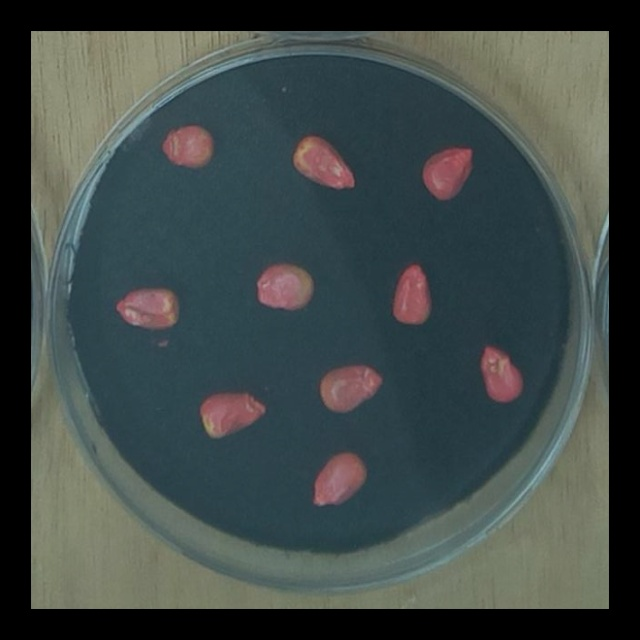Zea mays: (285, 127, 361, 195), (305, 445, 374, 515), (313, 357, 389, 419), (193, 386, 272, 445), (110, 281, 186, 337), (250, 257, 320, 317), (416, 139, 478, 206), (474, 338, 530, 410), (385, 256, 438, 329), (155, 116, 219, 174)
